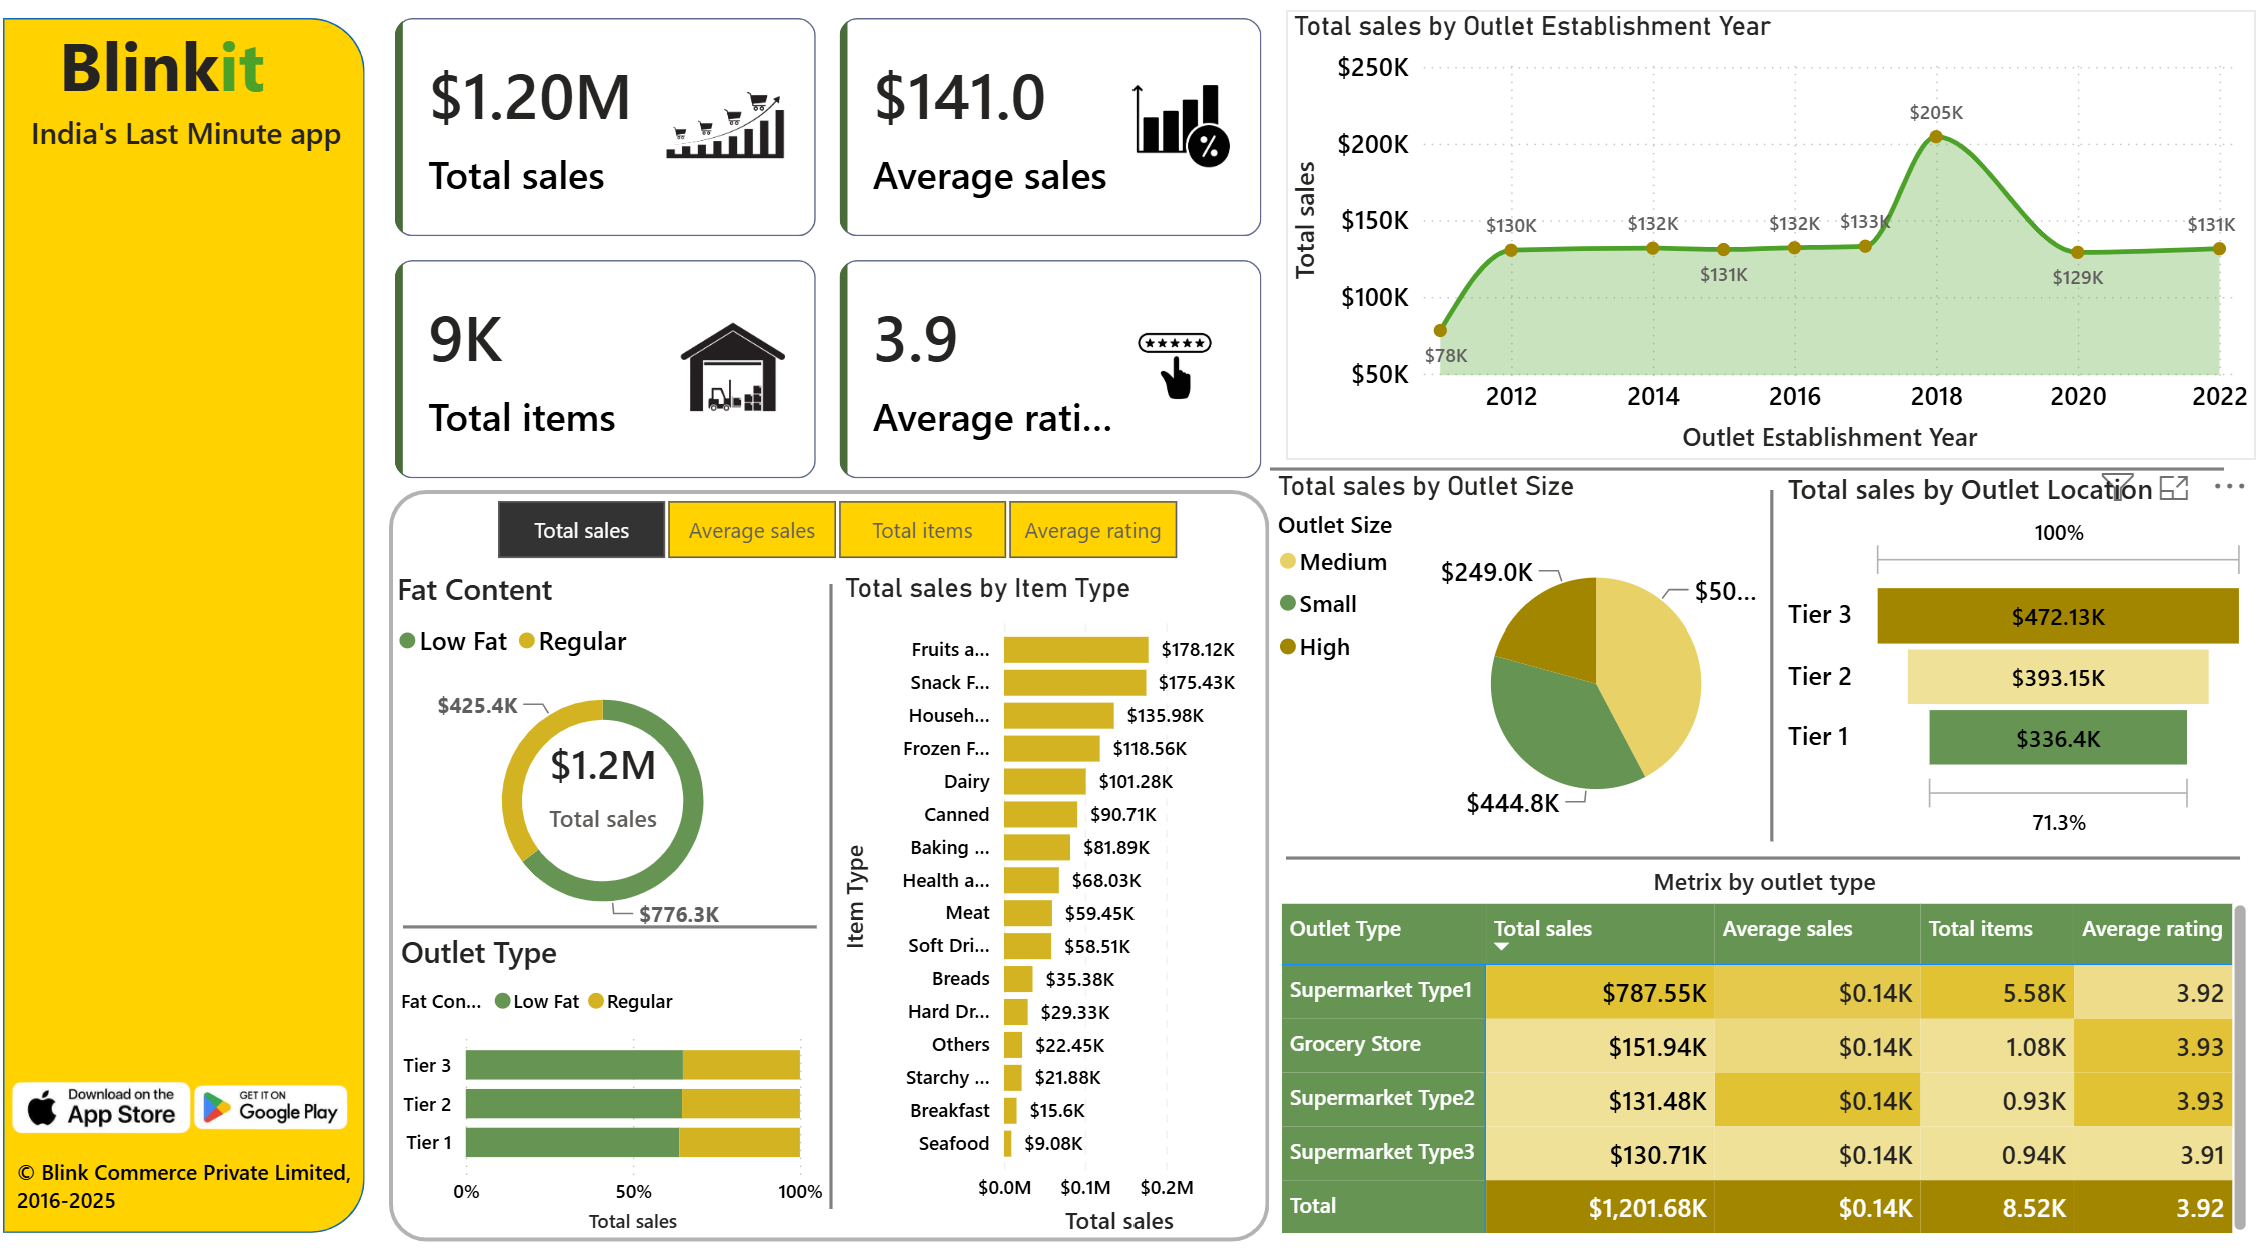

The page's visual inventory and layout, read from the dashboard file:
{"tool":"powerbi","page":{"name":"Page 1","canvas":[1450,800],"ordinal":0},"visuals":[{"type":"shape","box":[10,17.1,228.6,767.1],"z":0},{"type":"textbox","box":[40,12.9,178.6,71.4],"z":1000},{"type":"textbox","box":[22.9,71.4,215.7,44.3],"z":2000},{"type":"cardVisual","fields":{"Data":["BlinkIT Grocery Data.Total sales","BlinkIT Grocery Data.Average sales","BlinkIT Grocery Data.Total items","BlinkIT Grocery Data.Average rating"]},"box":[252.9,12.9,557.1,302.9],"z":3000},{"type":"shape","box":[254.3,315.7,555.7,474.3],"z":4000},{"type":"slicer","fields":{"Values":["Parameter.Parameter"]},"box":[297.1,315.7,478.6,50],"z":5000},{"type":"donutChart","title":"Fat Content","fields":{"Category":["BlinkIT Grocery Data.Item Fat Content"],"Y":["BlinkIT Grocery Data.Total sales"]},"box":[254.3,365.7,270,237.1],"z":6000},{"type":"cardVisual","fields":{"Data":["BlinkIT Grocery Data.Total sales"]},"box":[322.9,450,134.3,102.9],"z":7000},{"type":"shape","box":[262.9,570,261.4,42.9],"z":8000},{"type":"shape","box":[517.1,375.7,32.9,394.3],"z":9000},{"type":"clusteredBarChart","fields":{"Category":["BlinkIT Grocery Data.Item Type"],"Y":["BlinkIT Grocery Data.Total sales"]},"box":[537.1,367.1,272.9,422.9],"z":10000},{"type":"hundredPercentStackedBarChart","title":"Outlet Type","fields":{"Category":["BlinkIT Grocery Data.Outlet Location Type"],"Series":["BlinkIT Grocery Data.Item Fat Content"],"Y":["BlinkIT Grocery Data.Total sales"]},"box":[257.1,594.3,277.1,195.7],"z":11000},{"type":"lineChart","fields":{"Category":["BlinkIT Grocery Data.Outlet Establishment Year"],"Y":["BlinkIT Grocery Data.Total sales"]},"box":[820,12.9,612.9,284.3],"z":12000},{"type":"pieChart","title":"Total sales by Outlet Size","fields":{"Category":["BlinkIT Grocery Data.Outlet Size"],"Y":["BlinkIT Grocery Data.Total sales"]},"box":[810,302.9,317.1,250],"z":13000},{"type":"shape","box":[810,280,602.9,44.3],"z":14000},{"type":"shape","box":[1117.1,315.7,20,221.4],"z":15000},{"type":"funnel","title":"Total sales by Outlet Location","fields":{"Category":["BlinkIT Grocery Data.Outlet Location Type"],"Y":["BlinkIT Grocery Data.Total sales"]},"box":[1132.9,302.9,300,237.1],"z":16000},{"type":"shape","box":[820,525.7,602.9,44.3],"z":17000},{"type":"pivotTable","title":"Metrix by outlet type","fields":{"Rows":["BlinkIT Grocery Data.Outlet Type"],"Values":["BlinkIT Grocery Data.Total sales","BlinkIT Grocery Data.Average sales","BlinkIT Grocery Data.Total items","BlinkIT Grocery Data.Average rating"]},"box":[812.9,552.9,620,237.1],"z":18000},{"type":"textbox","box":[14.3,731.4,227.1,48.6],"z":19000},{"type":"image","box":[0,677.1,141.4,54.3],"z":20000},{"type":"image","box":[120,682.9,118.6,44.3],"z":21000}]}

Visuals, with their boxes in screenshot pixels (x1, y1, x2, y2), scaled from the page's 1450x800 canvas onto the 2258x1254 screenshot:
shape: x1=16, y1=27, x2=372, y2=1229
textbox: x1=62, y1=20, x2=340, y2=132
textbox: x1=36, y1=112, x2=372, y2=181
cardVisual - BlinkIT Grocery Data.Total sales x BlinkIT Grocery Data.Average sales: x1=394, y1=20, x2=1261, y2=495
shape: x1=396, y1=495, x2=1261, y2=1238
slicer - Parameter.Parameter: x1=463, y1=495, x2=1208, y2=573
"Fat Content" donutChart: x1=396, y1=573, x2=816, y2=945
cardVisual - BlinkIT Grocery Data.Total sales: x1=503, y1=705, x2=712, y2=867
shape: x1=409, y1=893, x2=816, y2=961
shape: x1=805, y1=589, x2=856, y2=1207
clusteredBarChart - BlinkIT Grocery Data.Item Type x BlinkIT Grocery Data.Total sales: x1=836, y1=575, x2=1261, y2=1238
"Outlet Type" hundredPercentStackedBarChart: x1=400, y1=932, x2=832, y2=1238
lineChart - BlinkIT Grocery Data.Outlet Establishment Year x BlinkIT Grocery Data.Total sales: x1=1277, y1=20, x2=2231, y2=466
"Total sales by Outlet Size" pieChart: x1=1261, y1=475, x2=1755, y2=867
shape: x1=1261, y1=439, x2=2200, y2=508
shape: x1=1740, y1=495, x2=1771, y2=842
"Total sales by Outlet Location" funnel: x1=1764, y1=475, x2=2231, y2=846
shape: x1=1277, y1=824, x2=2216, y2=893
"Metrix by outlet type" pivotTable: x1=1266, y1=867, x2=2231, y2=1238
textbox: x1=22, y1=1146, x2=376, y2=1223
image: x1=0, y1=1061, x2=220, y2=1146
image: x1=187, y1=1070, x2=372, y2=1140
